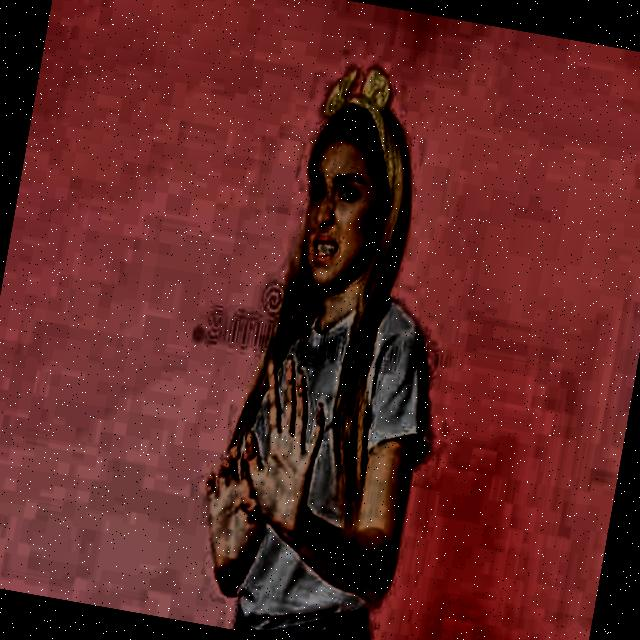disgust: (271, 52, 438, 316)
